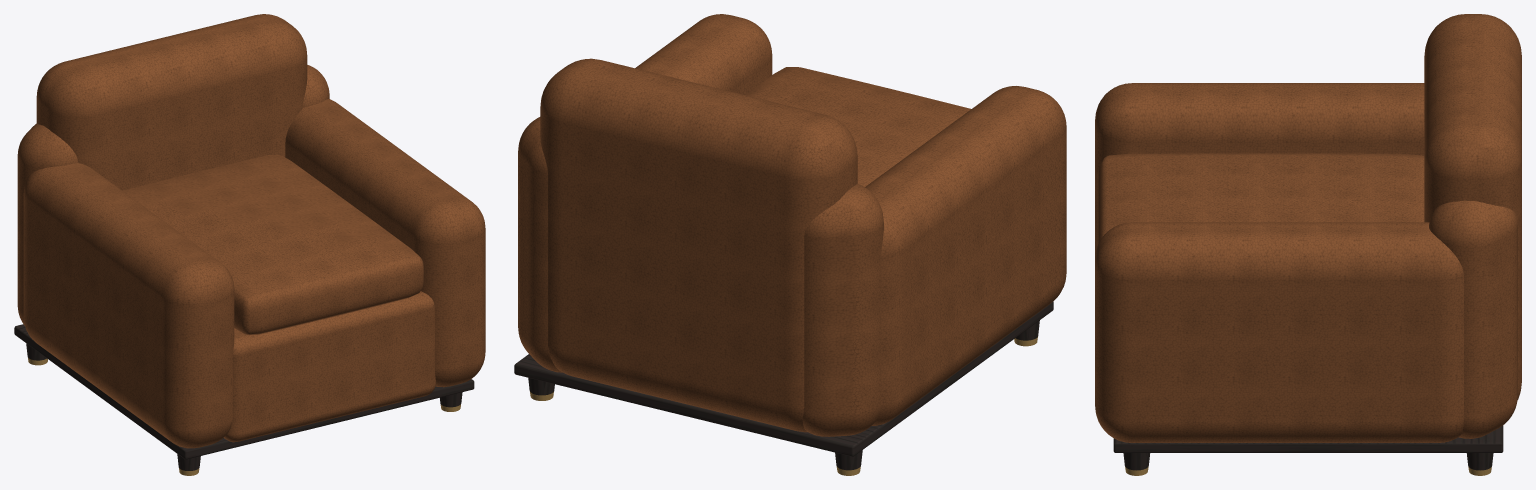
Rendered from club_chair.glb.
The picture shows the model from 3 angles, left to right: view 1: azimuth 30°, elevation 25°; view 2: azimuth 150°, elevation 25°; view 3: azimuth 270°, elevation 25°; orthographic projection. The views are drawn at different scales.
Visible parts, largest first — view 1: part_body_LOD0, part_seat_LOD0; view 2: part_body_LOD0, part_seat_LOD0; view 3: part_body_LOD0, part_seat_LOD0, part_foot_fr_LOD0, part_foot_br_LOD0.
Part boxes in pixels (left/top/right/bottom): part_body_LOD0: left=14, top=14, right=485, bottom=459; part_seat_LOD0: left=122, top=154, right=423, bottom=334; part_body_LOD0: left=514, top=14, right=1066, bottom=456; part_seat_LOD0: left=745, top=67, right=971, bottom=186; part_body_LOD0: left=1095, top=14, right=1521, bottom=452; part_seat_LOD0: left=1097, top=153, right=1424, bottom=246; part_foot_fr_LOD0: left=1123, top=453, right=1150, bottom=475; part_foot_br_LOD0: left=1466, top=453, right=1493, bottom=475.
Size of what is drawn, in the model's own units: 0.9 by 0.78 by 0.92.
5 materials, 5 textured.
